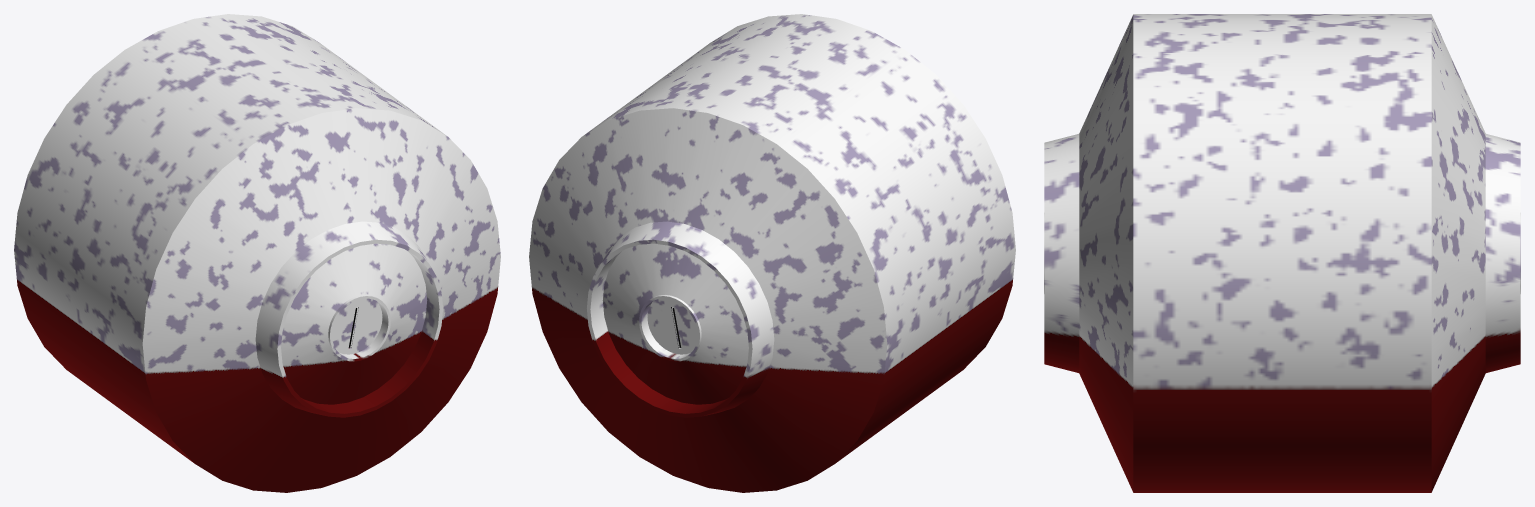
3 renders of one model, left to right at view 1: azimuth 30°, elevation 25°; view 2: azimuth 150°, elevation 25°; view 3: azimuth 270°, elevation 25°, orthographic. The views are drawn at different scales.
Visible parts, largest first — view 1: Cylinder.002; view 2: Cylinder.002; view 3: Cylinder.002.
Part boxes in pixels (<box>): Cylinder.002: <box>14,14,500,492</box>; Cylinder.002: <box>529,14,1015,492</box>; Cylinder.002: <box>1044,14,1520,492</box>.
Size of the model in its own units: 2 by 2 by 1.99.
1 material, 1 textured.
